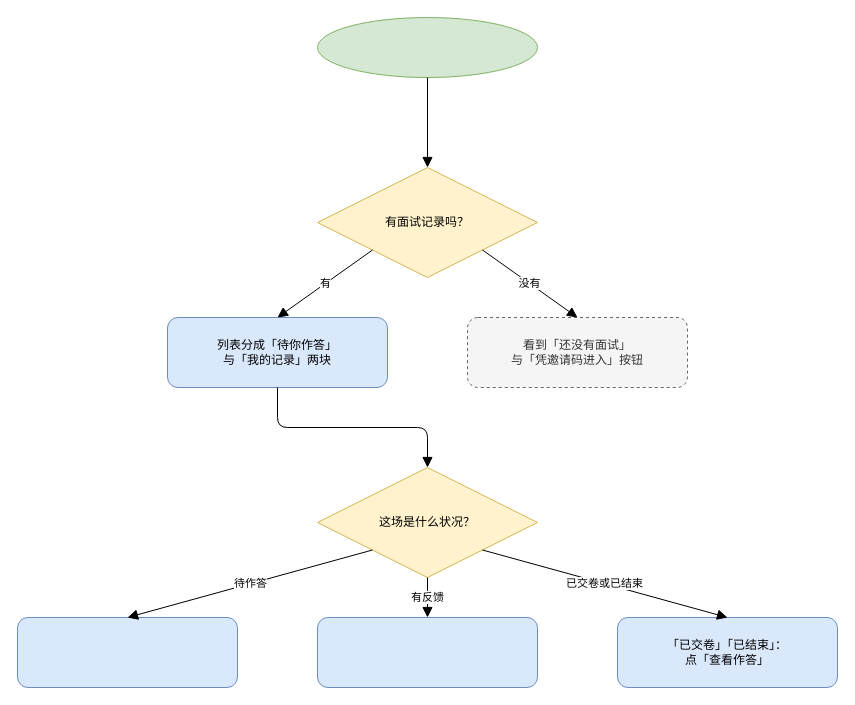
The diagram is 855 pixels wide and 705 high, and some of its shapes have lost their labels. Each missing label, with the centre of its shape:
"「待作答」：点「进入作答」" goes at (x=127, y=652).
"「有反馈」：点「查看反馈」" goes at (x=427, y=652).
"登录候选人端， 默认就落在「我的面试」" goes at (x=427, y=47).
